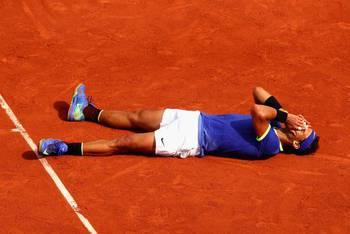down: (35, 79, 322, 161)
